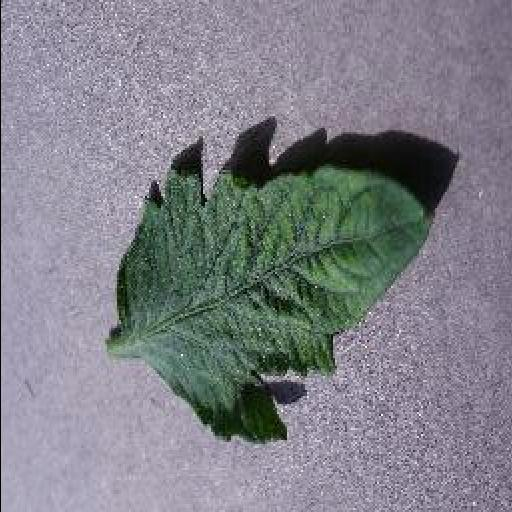Mosaic Virus: (113, 162, 435, 446)
